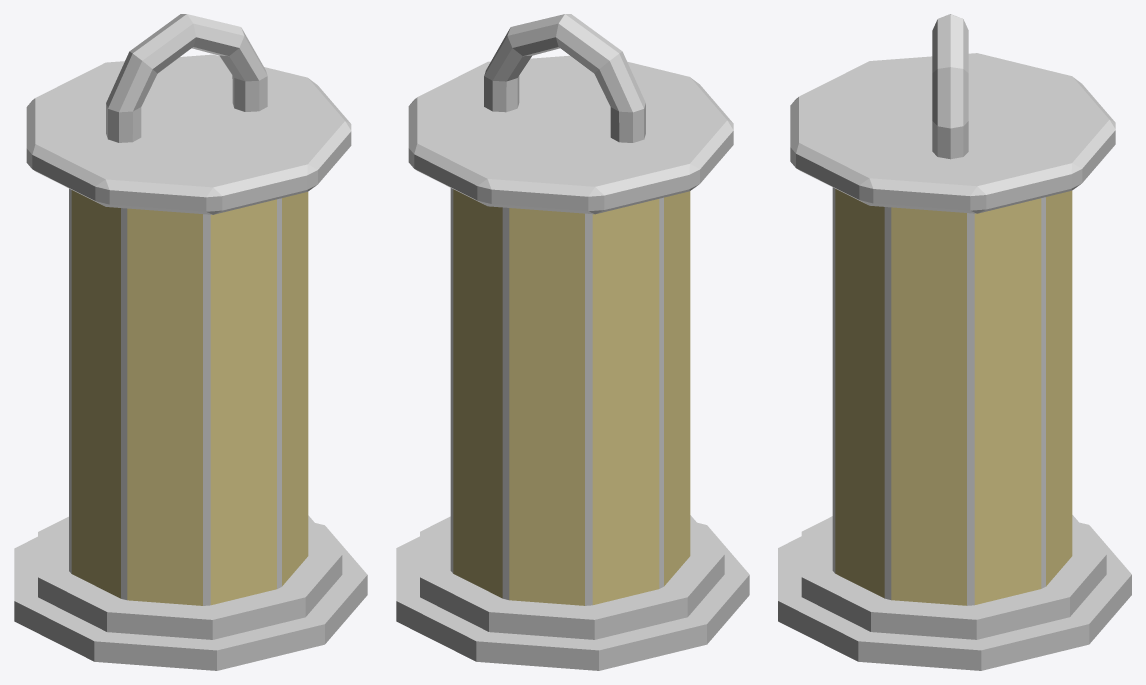
File: LAMP3.fbx
The picture shows the model from 3 angles, left to right: view 1: azimuth 30°, elevation 25°; view 2: azimuth 150°, elevation 25°; view 3: azimuth 270°, elevation 25°; orthographic projection.
Parts seen in each view (by area): view 1: Cylinder.017, Cylinder.002, Cylinder.001, Torus.001; view 2: Cylinder.017, Cylinder.002, Cylinder.001, Torus.001; view 3: Cylinder.017, Cylinder.002, Cylinder.001, Torus.001.
Boxes of the visible parts, bbox=[...] form: Cylinder.017: bbox=[71, 190, 308, 605]; Cylinder.002: bbox=[14, 54, 367, 670]; Cylinder.001: bbox=[69, 188, 281, 605]; Torus.001: bbox=[106, 14, 267, 142]; Cylinder.017: bbox=[453, 189, 690, 605]; Cylinder.002: bbox=[396, 55, 749, 670]; Cylinder.001: bbox=[450, 188, 663, 605]; Torus.001: bbox=[484, 14, 645, 142]; Cylinder.017: bbox=[835, 189, 1072, 605]; Cylinder.002: bbox=[778, 53, 1131, 670]; Cylinder.001: bbox=[832, 187, 1045, 605]; Torus.001: bbox=[932, 14, 968, 159].
Bounding box in the file's own units: 233 × 416 × 229.
